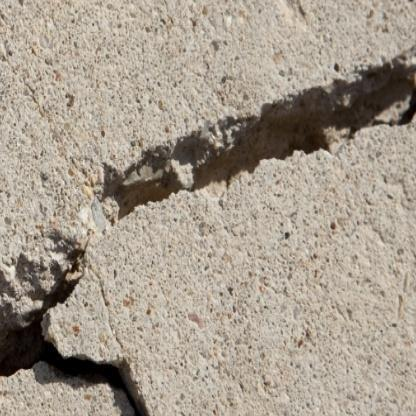Cracks: (96, 38, 416, 226), (0, 225, 171, 416)
